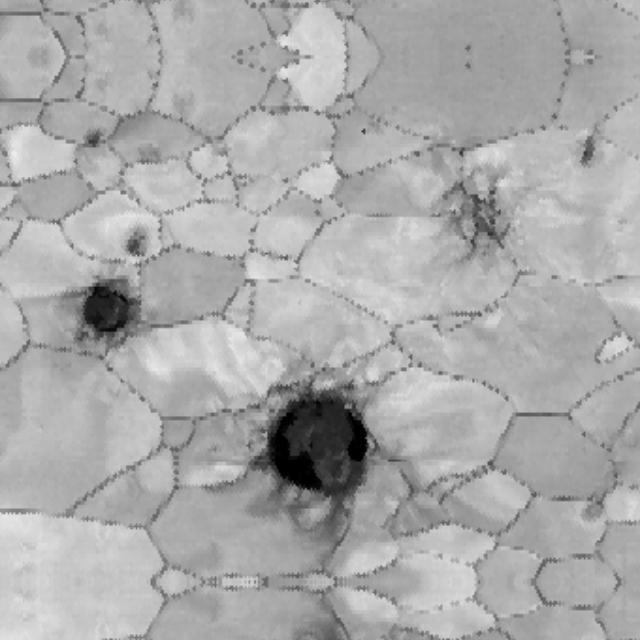good_void: (246, 382, 381, 543), (446, 171, 523, 267), (78, 282, 147, 349), (574, 498, 610, 528), (124, 232, 155, 262), (576, 133, 602, 167), (83, 125, 109, 152), (357, 122, 383, 143), (136, 145, 162, 165)
